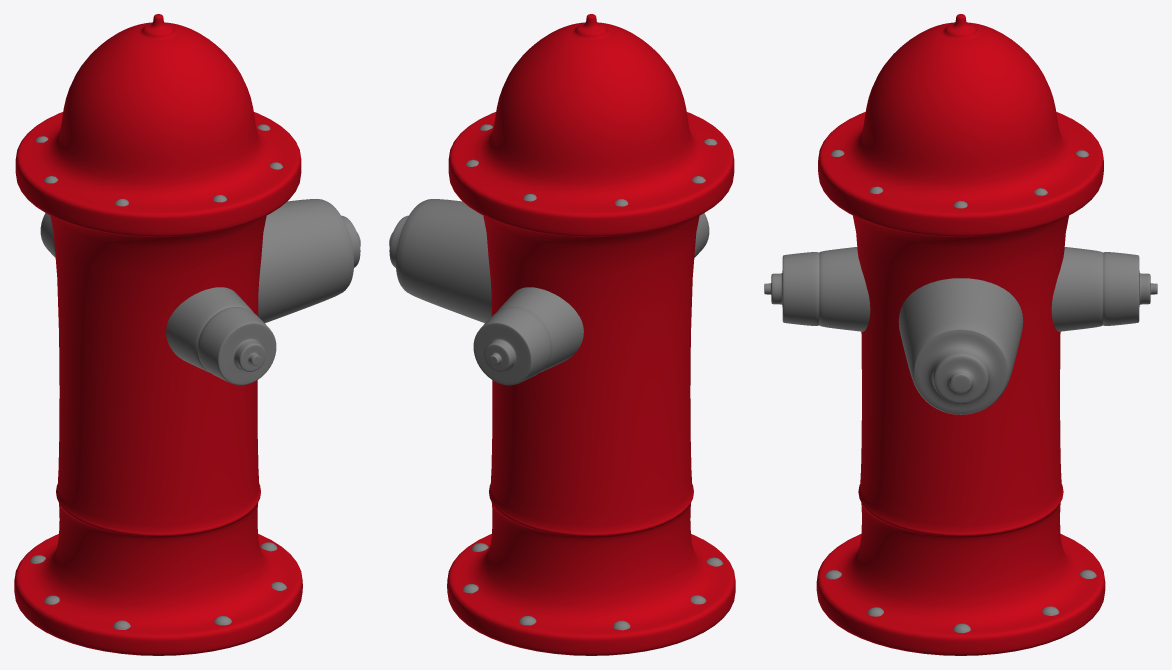
The model's file is Fire Hydrant.fbx.
3 views of the same model, side by side, from view 1: azimuth 30°, elevation 25°; view 2: azimuth 150°, elevation 25°; view 3: azimuth 270°, elevation 25° (orthographic).
Parts seen in each view (by area): view 1: Circle.001, Circle; view 2: Circle.001, Circle; view 3: Circle.001, Circle.
Part boxes in pixels (x1,y1,x2,y2): Circle.001: [14, 14, 302, 655]; Circle: [30, 124, 360, 629]; Circle.001: [447, 14, 735, 655]; Circle: [389, 124, 722, 630]; Circle.001: [816, 14, 1105, 655]; Circle: [764, 149, 1157, 633].
Bounding box in the file's own units: 36 × 63.52 × 37.98.
